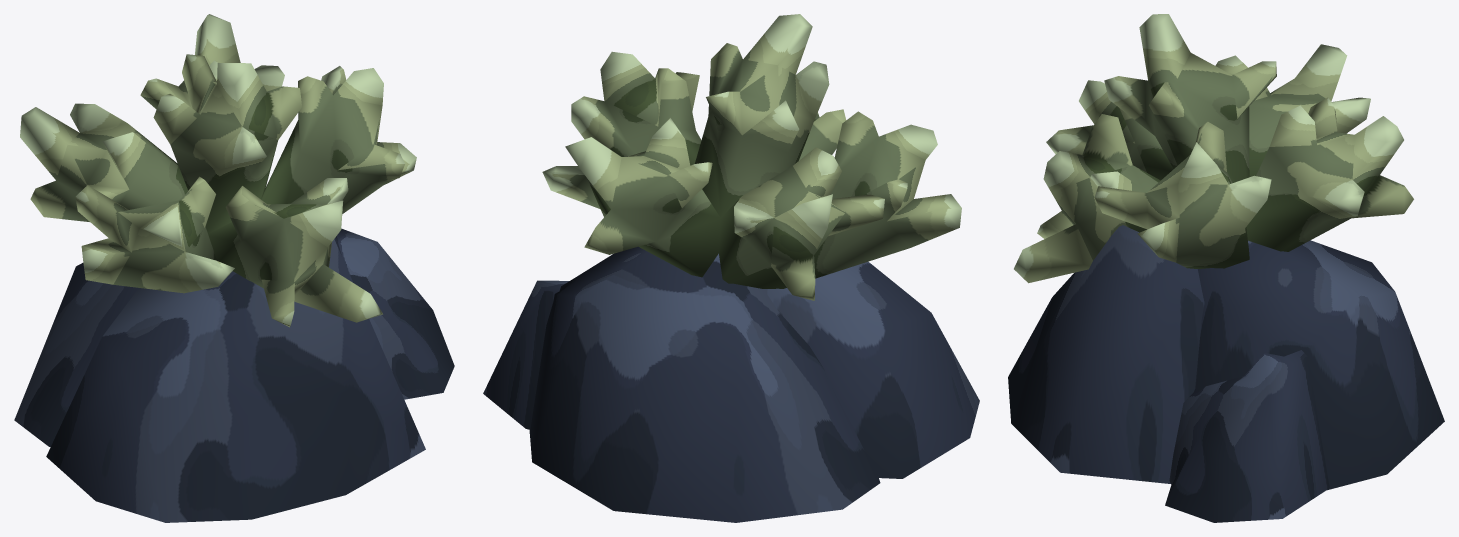
Rendered from Clubbed Finger Coral 1_preview_3DS_simplified.glb.
3 views of the same model, side by side, from view 1: azimuth 30°, elevation 25°; view 2: azimuth 150°, elevation 25°; view 3: azimuth 270°, elevation 25° (orthographic). The views are drawn at different scales.
Visible parts, largest first — view 1: Marine Park Empire model; view 2: Marine Park Empire model; view 3: Marine Park Empire model.
Boxes of the visible parts, x1,y1,x2,y2 form: Marine Park Empire model: (14,14,454,522); Marine Park Empire model: (483,14,979,522); Marine Park Empire model: (1008,14,1444,522).
Bounding box in the file's own units: 37.1 × 33.99 × 34.58.
2 materials, 2 textured.
